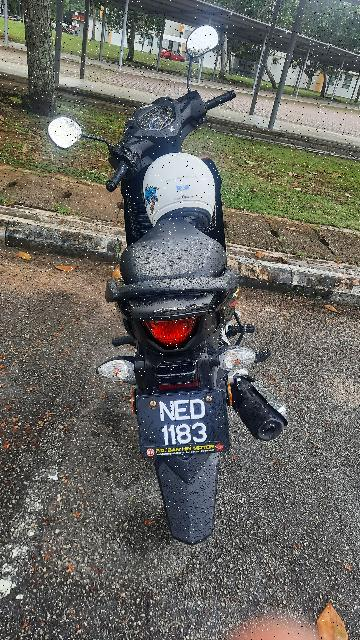License_Plate: (131, 390, 236, 466)
motorcycle: (46, 21, 298, 558)
